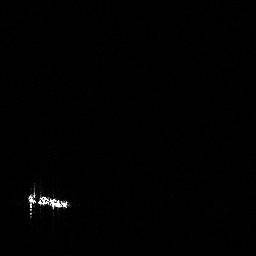ship: (24, 183, 73, 221)
